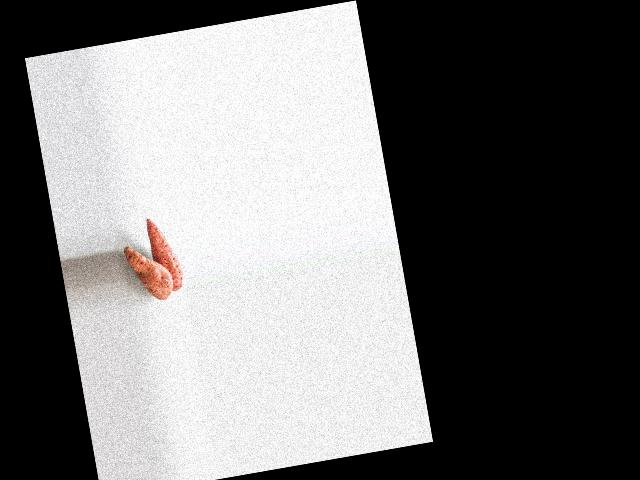sweet_potato: (146, 219, 184, 293)
